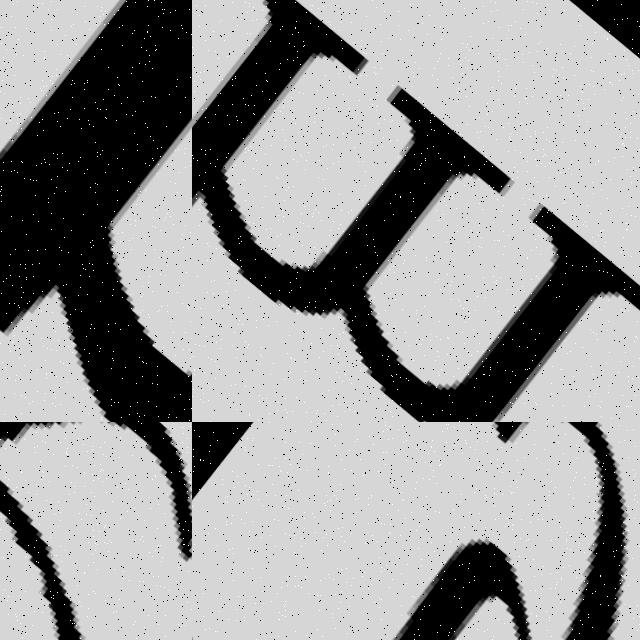K: (0, 422, 192, 640)
M: (192, 0, 640, 422)
N: (0, 0, 192, 422)
Y: (192, 422, 640, 640)
